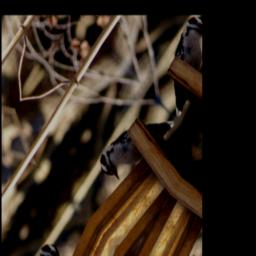Woodpecker: (95, 91, 197, 220)
